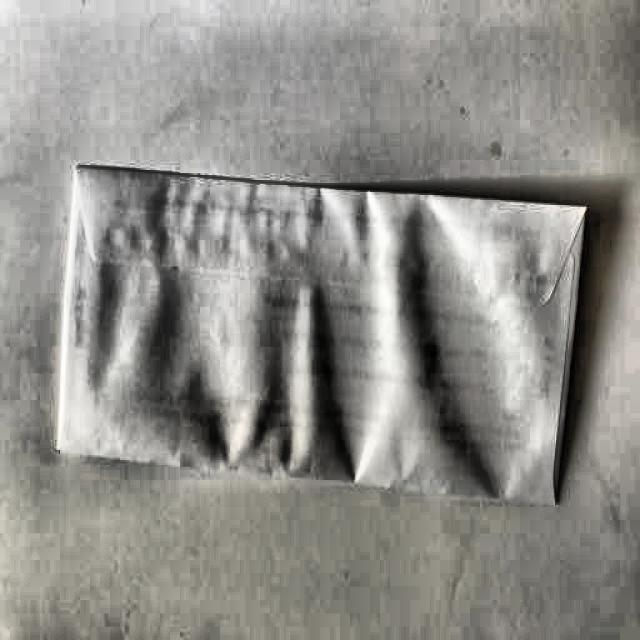paper: (59, 152, 590, 512)
